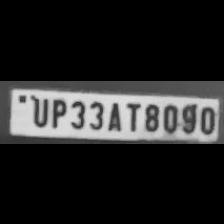0: (160, 100, 178, 132), (198, 101, 216, 133)
3: (66, 96, 86, 128), (86, 97, 104, 129)
8: (142, 99, 160, 131)
9: (179, 100, 197, 132)
A: (105, 98, 123, 130)
P: (47, 95, 66, 127)
T: (122, 98, 140, 130)
U: (28, 94, 48, 126)
